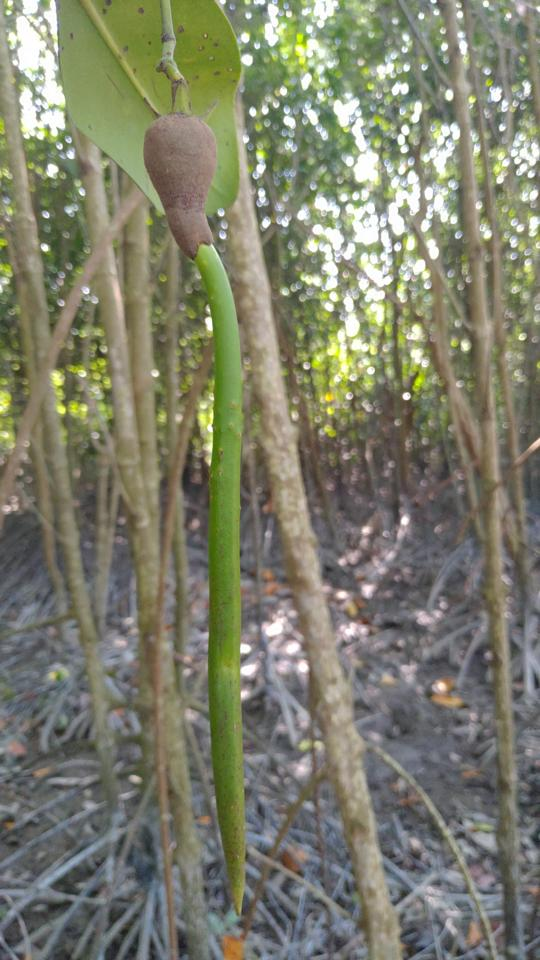mentah: (115, 88, 296, 930)
